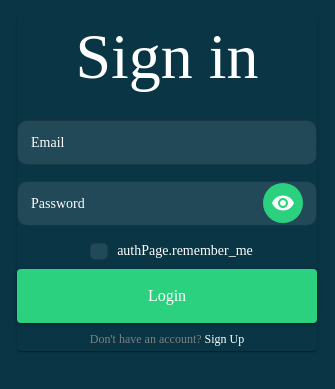
Test case: Login Page › displays error message for incorrect credentials
Type "wrong@example.com" into the field labelled "Email" at (167, 142), box 17,123 -> 317,161
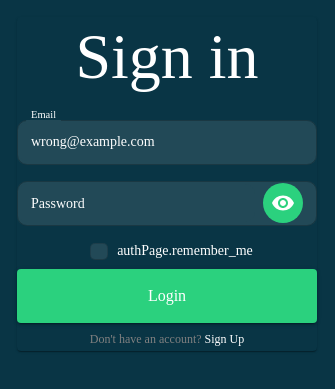
Type "wrongpassword" into the password field labelled "Password" at (136, 203), box 17,184 -> 255,222
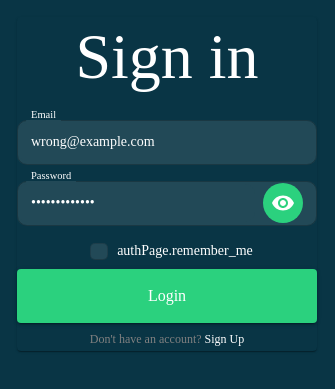
Click the button "Login" at (167, 296), box 17,269 -> 317,323
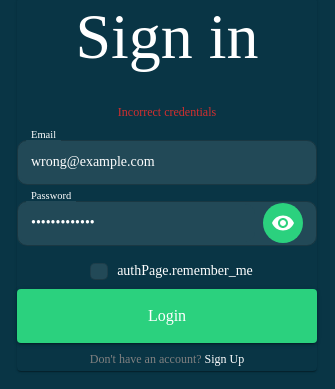
Expected: the text "Incorrect credentials" is shown, 118,105 -> 216,119
